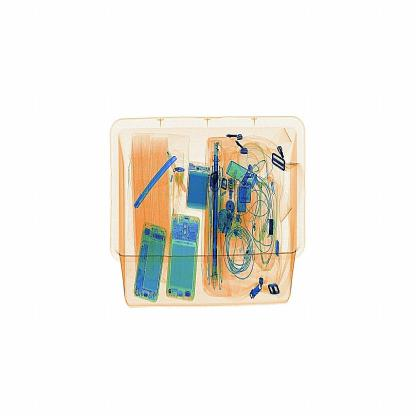pliers: (129, 148, 191, 212)
